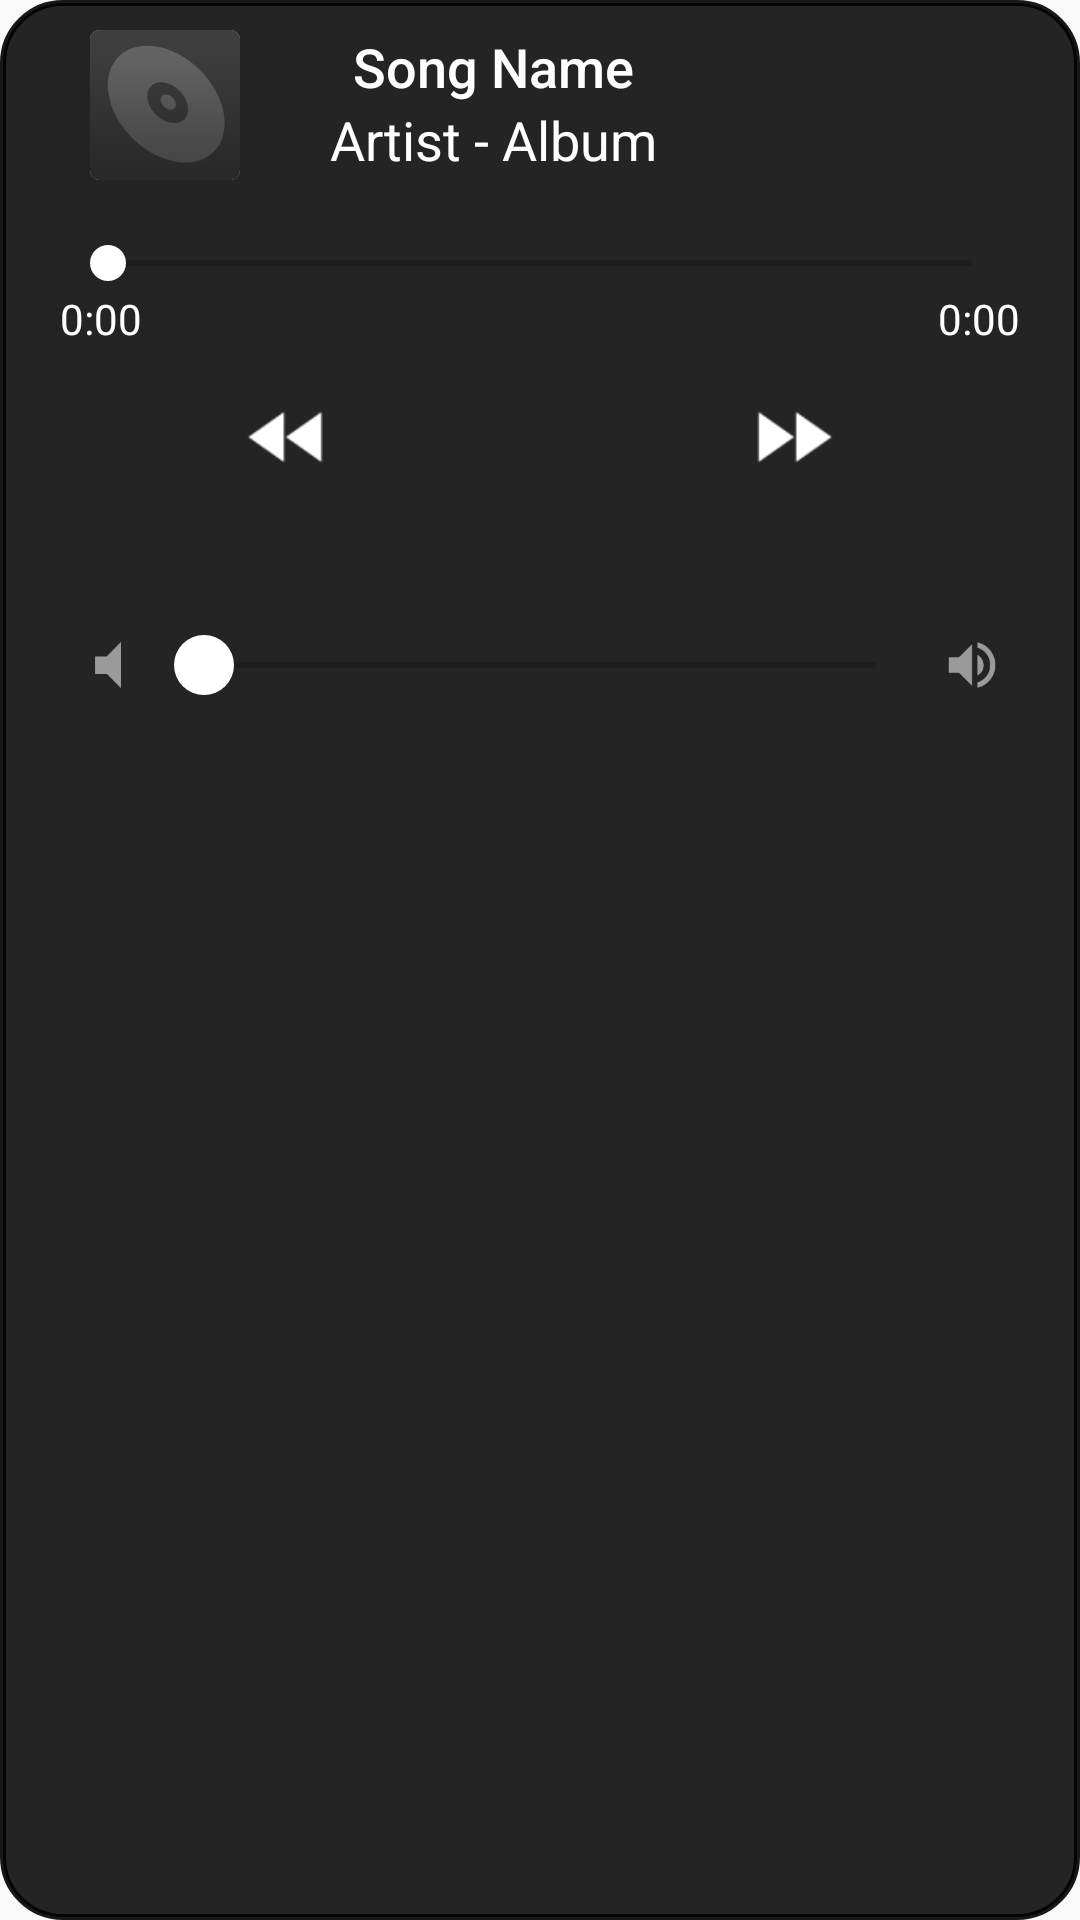

Icons on this 1080x1920 Android screen, each with its box as bbox(x1, y1, x2, y2):
fast forward: bbox(757, 412, 832, 462)
fast rewind: bbox(248, 412, 323, 462)
noalbumart: bbox(90, 30, 240, 180)
volume mute: bbox(95, 642, 121, 688)
volume up: bbox(948, 642, 996, 688)
